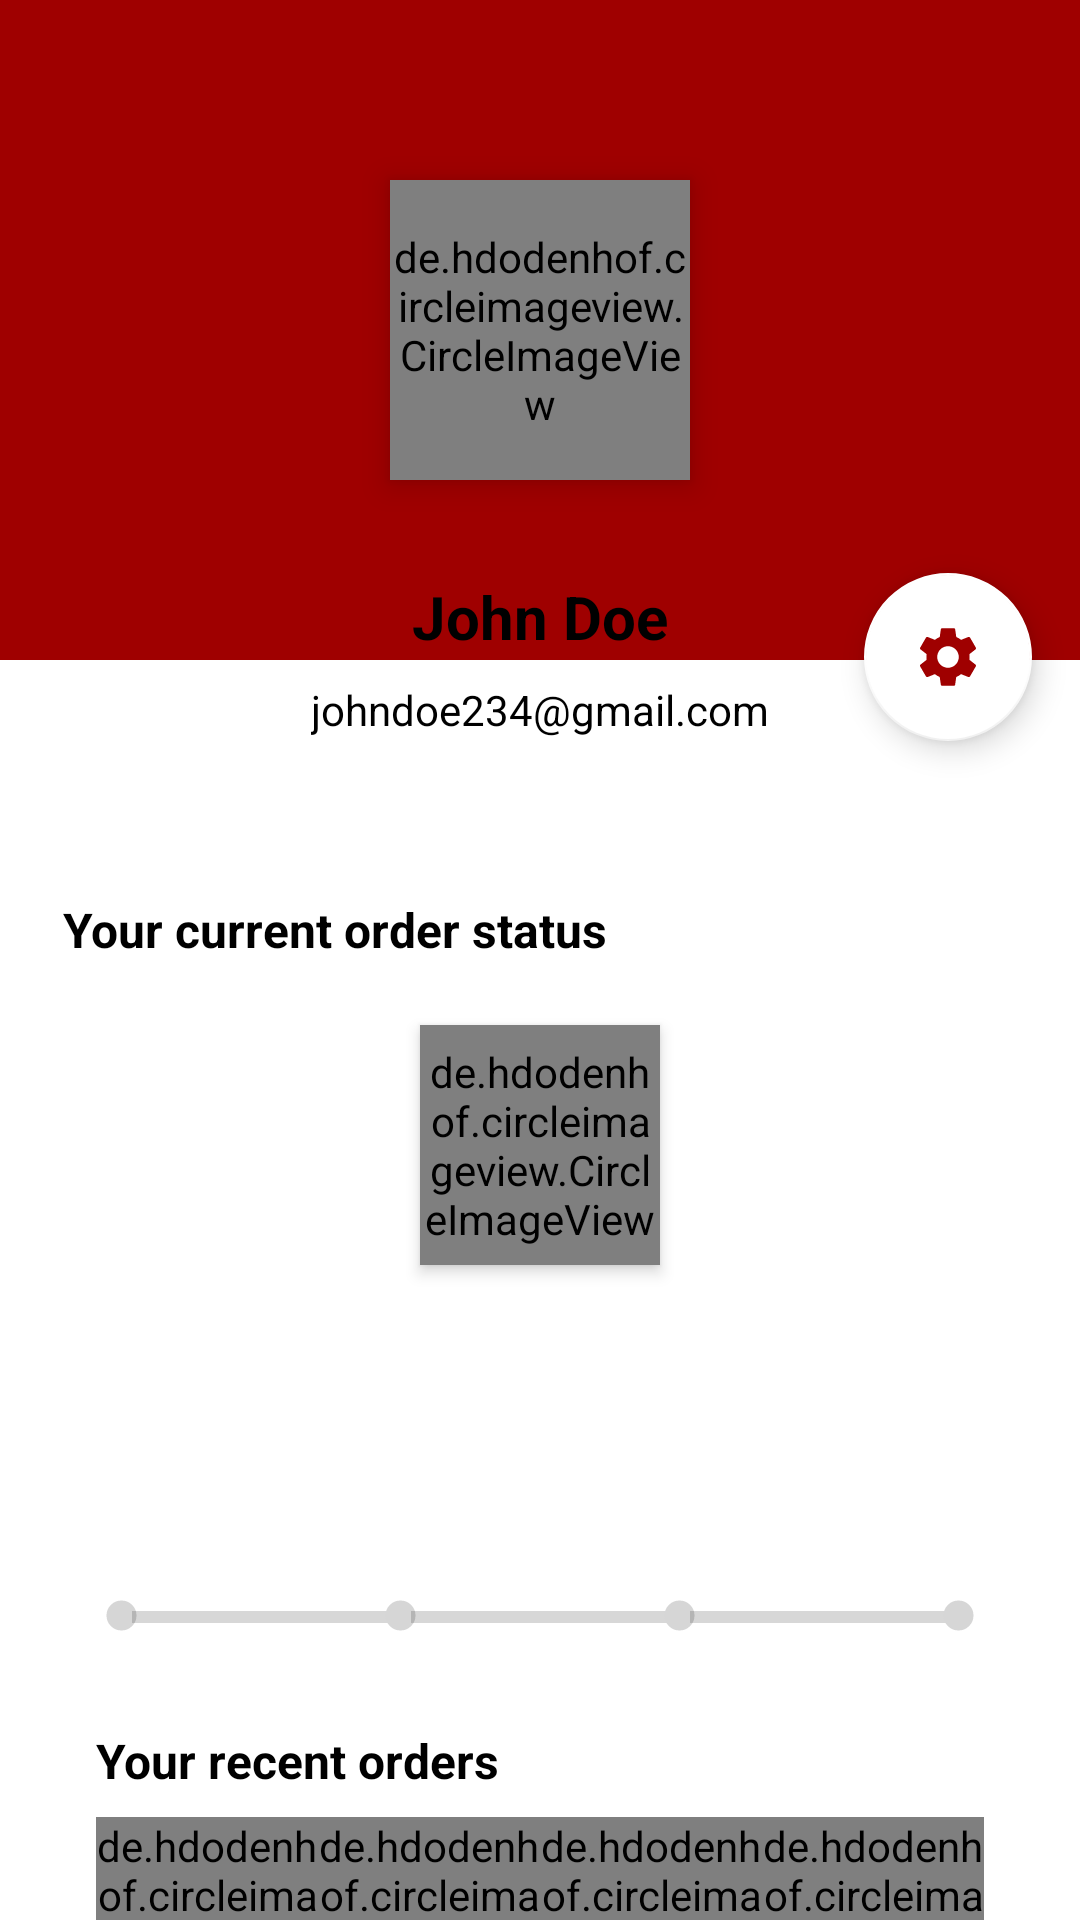

Point at icon controls on the screen. Image size 1080*1920, points as [x,y].
settings: [948,657]
